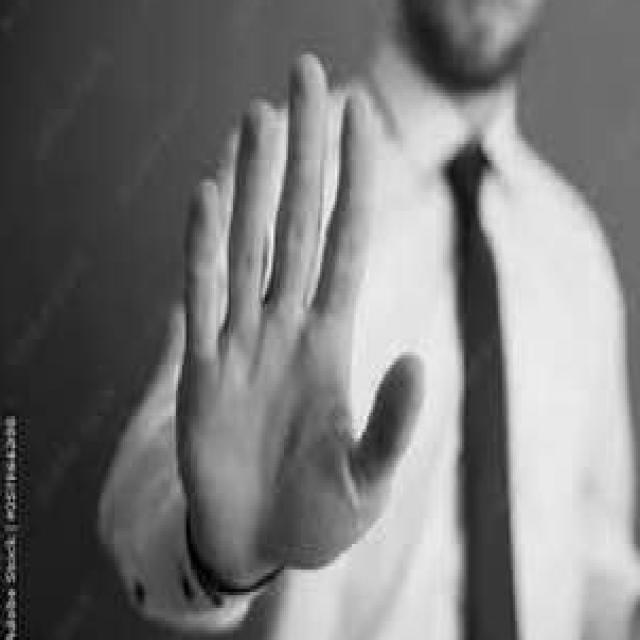stop: (169, 43, 432, 592)
